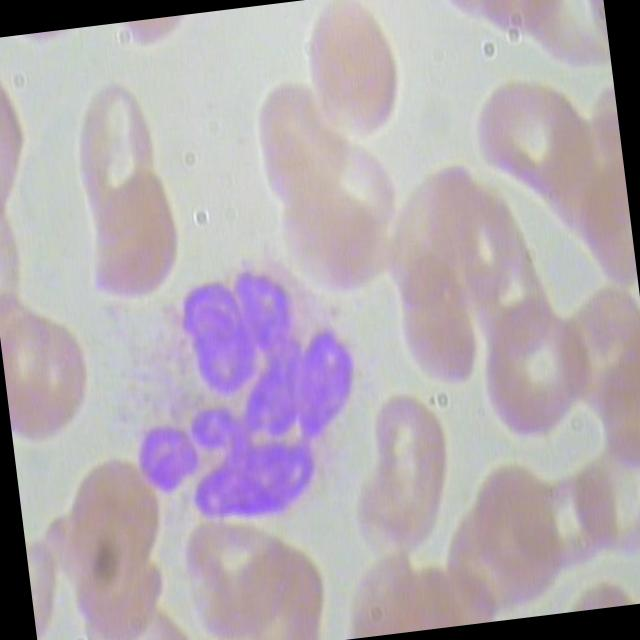RBC: (342, 388, 465, 569), (244, 64, 358, 222), (469, 70, 592, 216), (47, 453, 170, 599), (481, 295, 596, 446), (300, 0, 414, 148), (176, 511, 299, 640), (274, 186, 392, 314), (389, 250, 487, 400), (78, 172, 186, 308), (65, 80, 173, 216), (0, 305, 99, 450), (468, 462, 572, 590), (446, 190, 536, 320), (559, 285, 640, 427), (570, 441, 640, 568)
WBC: (81, 254, 397, 547)
